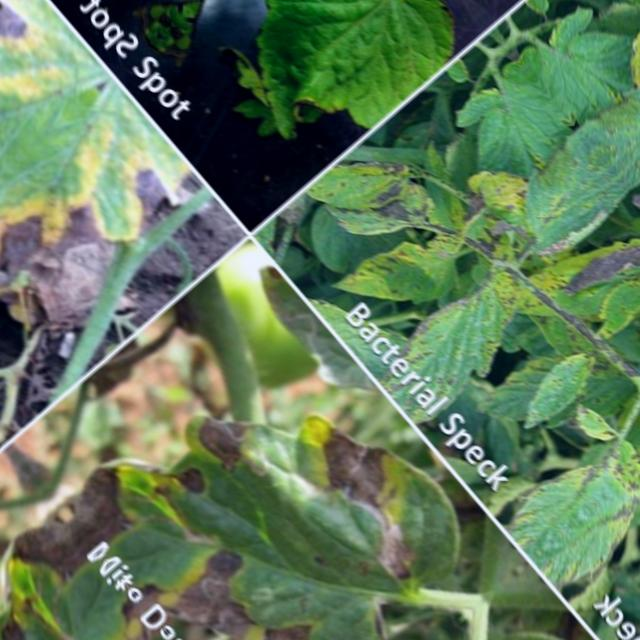Tomato leaf bacterial spot: (0, 85, 203, 403), (166, 0, 468, 195), (359, 231, 572, 435), (469, 118, 640, 289), (476, 385, 640, 556), (538, 219, 640, 455), (128, 0, 352, 86), (500, 321, 635, 451), (580, 249, 640, 347)
